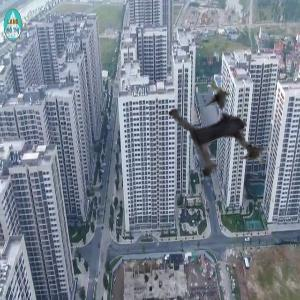drone: (162, 69, 285, 192)
